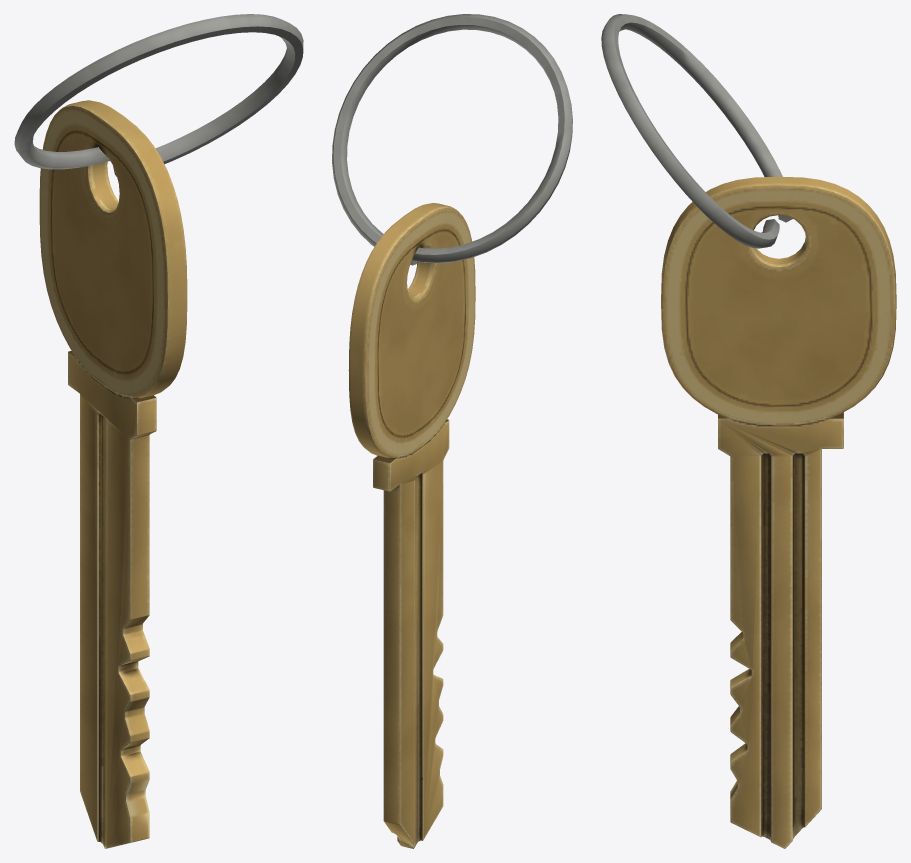
The model's file is Door Key.fbx.
The picture shows the model from 3 angles, left to right: view 1: azimuth 30°, elevation 25°; view 2: azimuth 150°, elevation 25°; view 3: azimuth 270°, elevation 25°; orthographic projection. The views are drawn at different scales.
Visible parts, largest first — view 1: Door Key; view 2: Door Key; view 3: Door Key.
Part boxes in pixels (x1,y1,x2,y2): Door Key: (14,14,303,848); Door Key: (332,14,572,848); Door Key: (601,14,896,848).
Size of the model in its own units: 2.66 by 8.53 by 2.81.
Materials: 1 (1 with a texture image).
